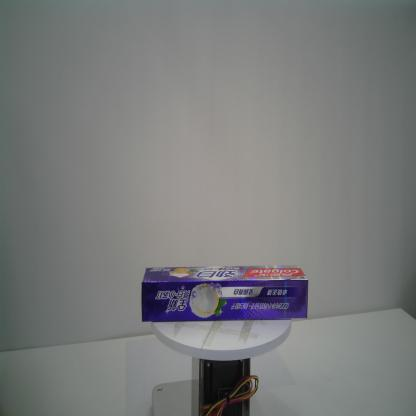Personal Hygiene: (141, 266, 308, 320)
